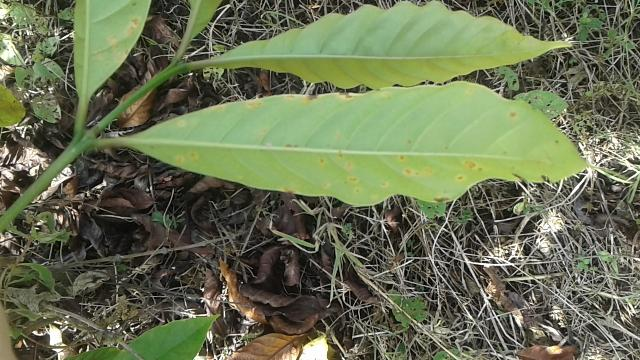rust_level_2: (124, 77, 634, 211)
